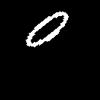chain: (26, 12, 67, 46)
